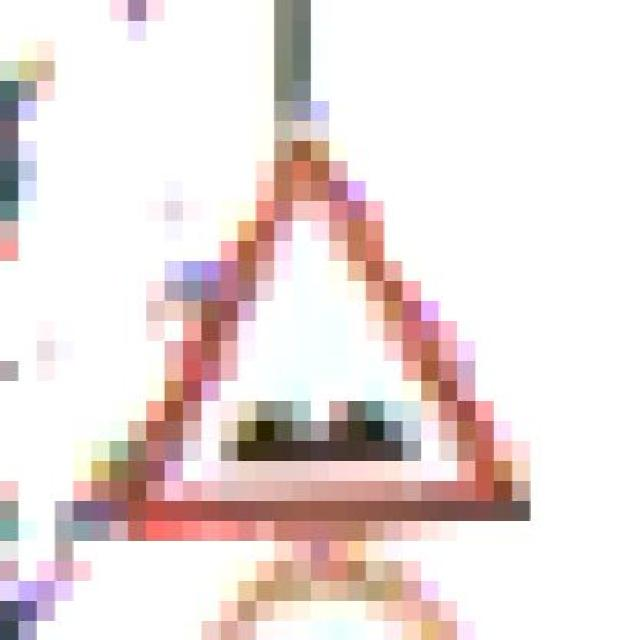Uneven Road: (110, 100, 548, 540)
